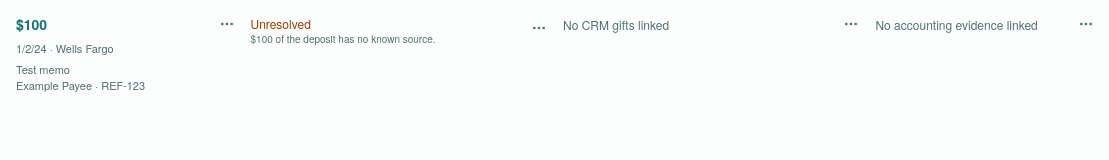
it: deposit workbench rows › shows return-to-open-queue for a direct bank exclusion
The width and height of the screenshot is (1109, 160).
Press the mouse on the button named "Card actions" at coordinates (226, 24), box [214,12,238,36]
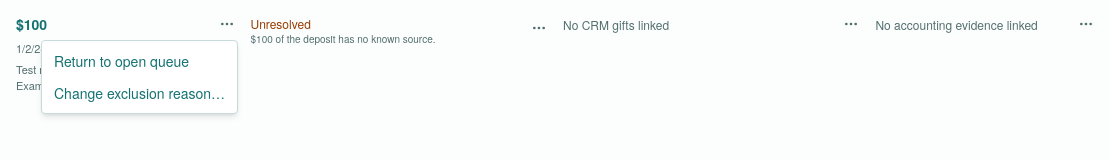
Now the text "Return to open queue" is shown, box [54,51,189,71]
